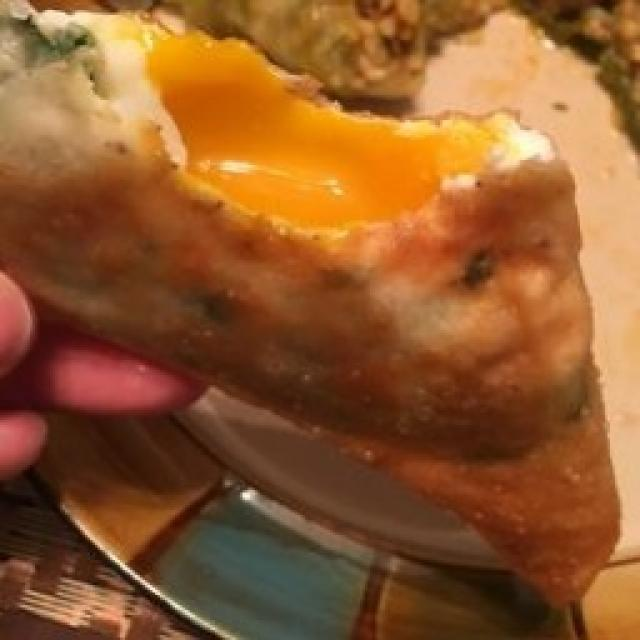Brik: (0, 6, 618, 604)
